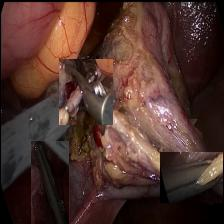Grasper: (159, 151, 222, 202), (30, 140, 68, 224)
Scissors: (58, 58, 112, 124)
